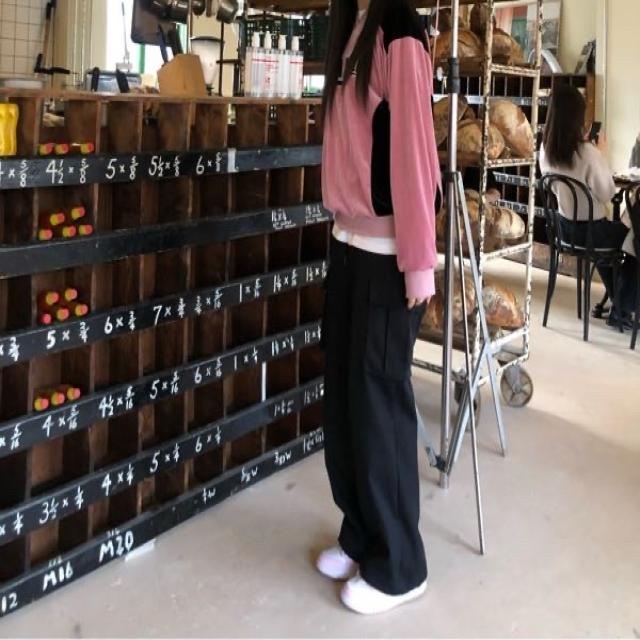cottonpants: (321, 236, 426, 593)
mtm: (318, 29, 438, 300)
